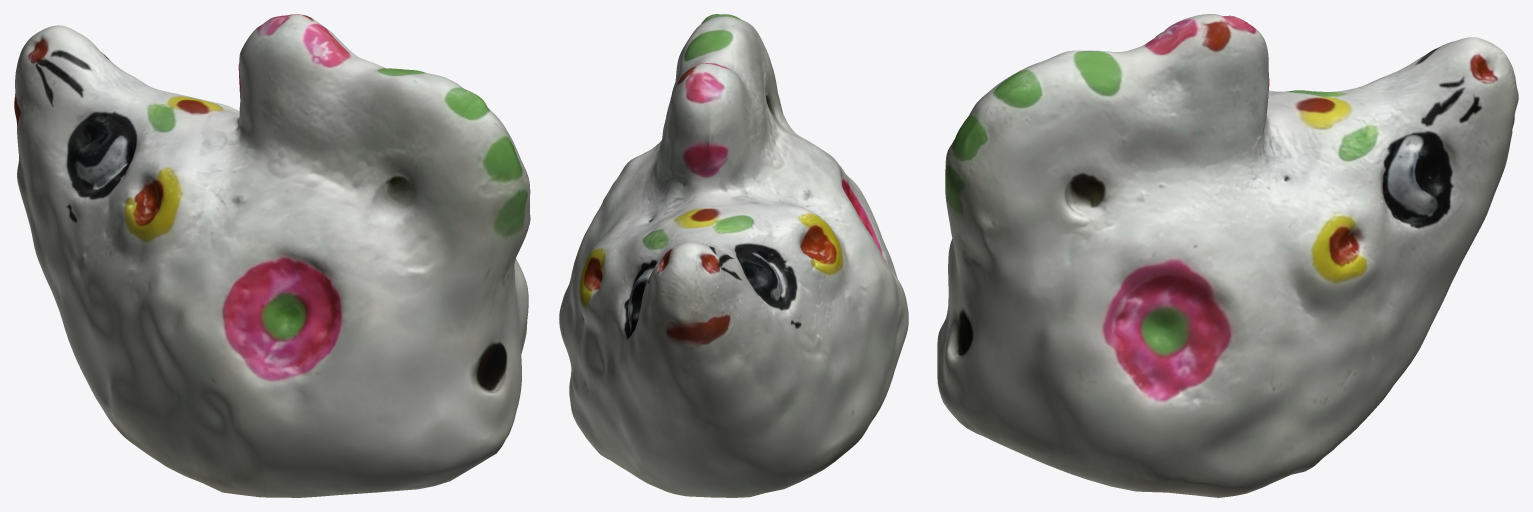
3 renders of one model, left to right at view 1: azimuth 30°, elevation 25°; view 2: azimuth 150°, elevation 25°; view 3: azimuth 270°, elevation 25°, orthographic. The views are drawn at different scales.
Bounding box in the file's own units: 0.2885 × 0.3373 × 0.4084.
1 material, 1 textured.
